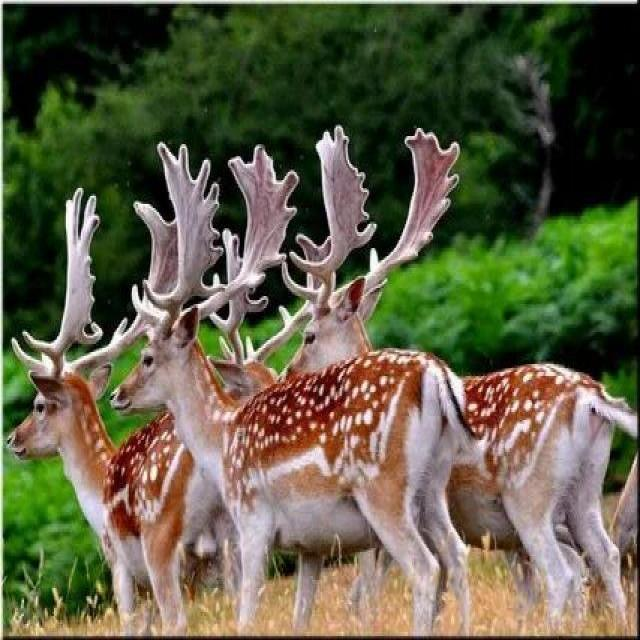deer: (130, 274, 488, 566), (14, 343, 122, 474)
